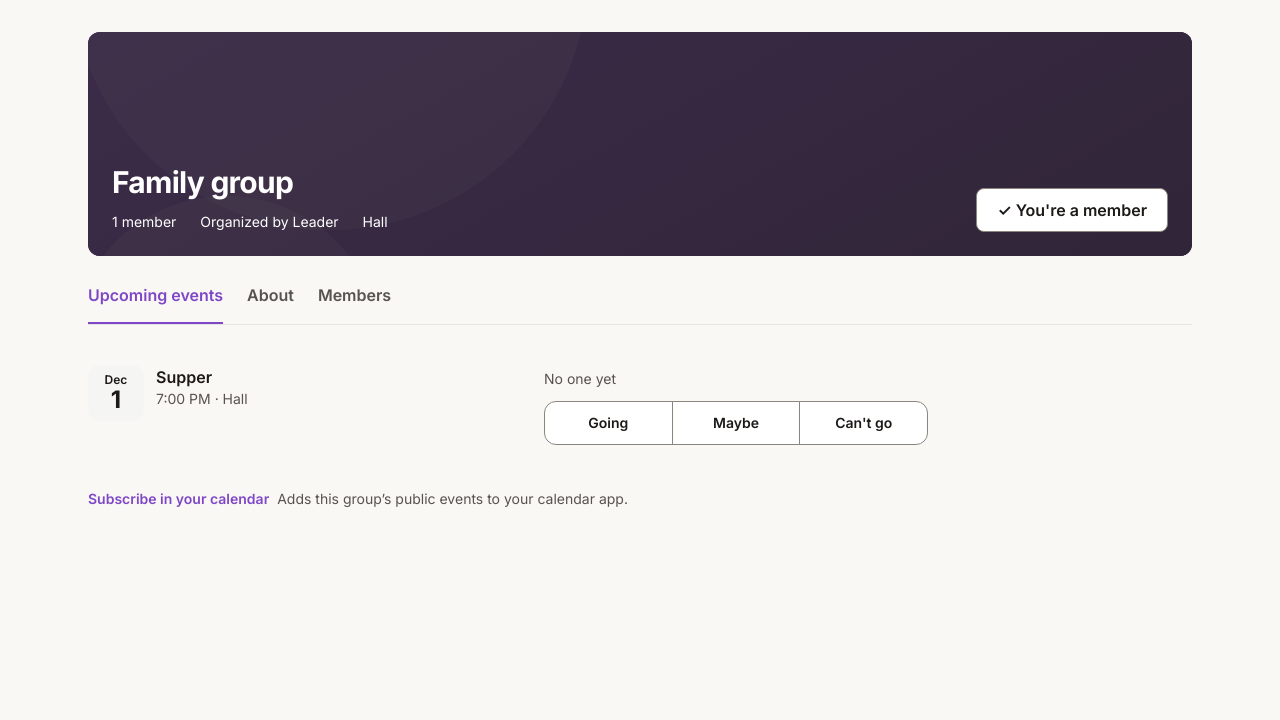
Test: opens the same series scope dialog from a group date for a solo viewer
What coordinates should you click on to do the following:
click the button "Going"
I would click on:
 (608, 423)
Its box is [544,401,673,445].
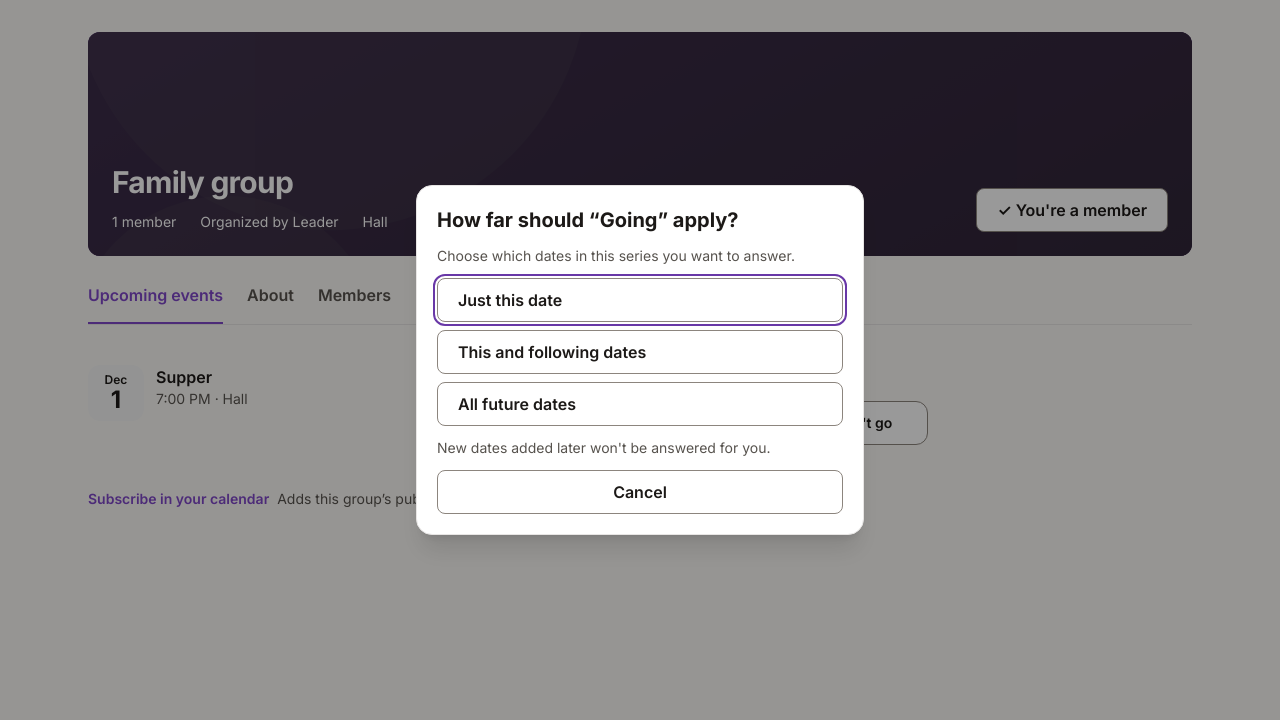
expect the dialog "How far should “Going” apply" is shown: met, box [416,185,864,535]
